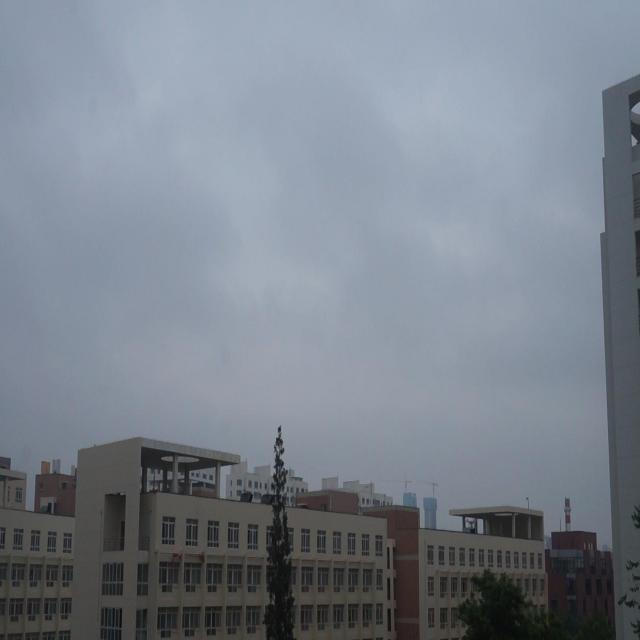UAV: (464, 518, 477, 529)
